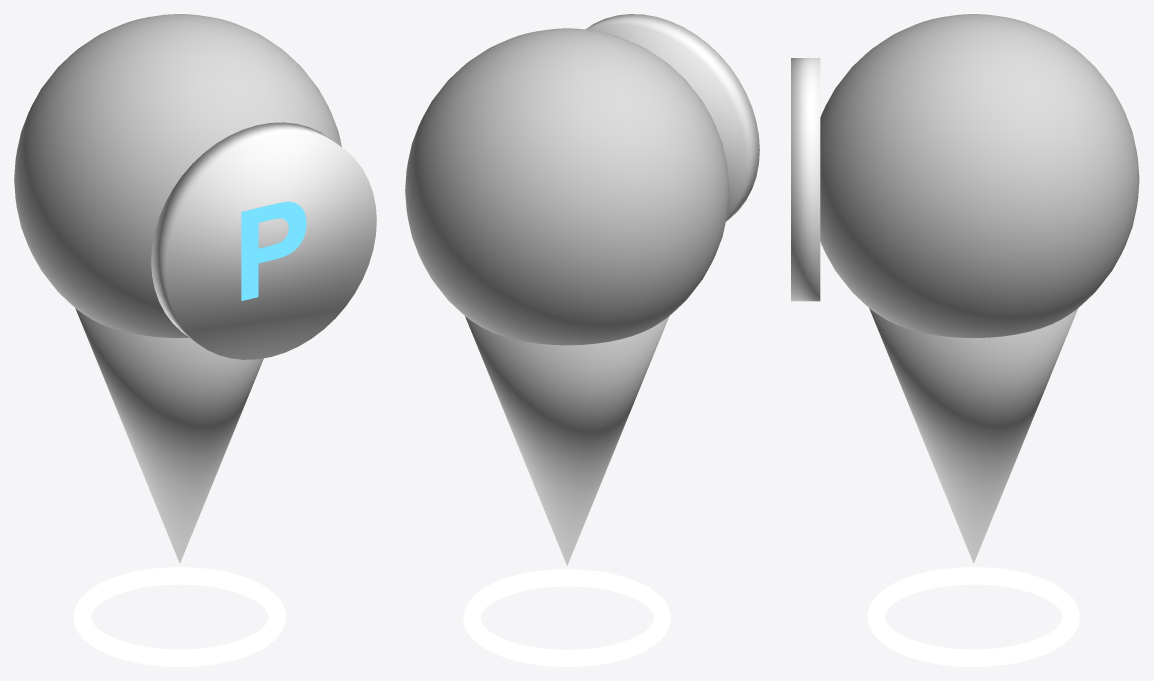
The model's file is pin-a.glb.
3 views of the same model, side by side, from view 1: azimuth 30°, elevation 25°; view 2: azimuth 150°, elevation 25°; view 3: azimuth 270°, elevation 25° (orthographic). The views are drawn at different scales.
Parts seen in each view (by area): view 1: Sphere.016, Cylinder.096, Cone.024, Torus.072, Plane.033; view 2: Sphere.016, Cone.024, Cylinder.096, Torus.072; view 3: Sphere.016, Cone.024, Torus.072, Cylinder.096.
Boxes of the visible parts, box(x1,y1,x2,y2) form: Sphere.016: box(14, 14, 341, 337); Cylinder.096: box(151, 122, 376, 359); Cone.024: box(75, 308, 263, 563); Torus.072: box(73, 567, 285, 666); Plane.033: box(241, 201, 306, 301); Sphere.016: box(405, 28, 729, 345); Cone.024: box(465, 316, 669, 565); Cylinder.096: box(585, 14, 759, 221); Torus.072: box(463, 569, 670, 666); Sphere.016: box(820, 14, 1139, 337); Cone.024: box(869, 308, 1078, 563); Torus.072: box(867, 567, 1079, 666); Cylinder.096: box(791, 58, 820, 301).
Size of the model in its own units: 0.68 by 1.35 by 0.72.
Materials: 4 (1 with a texture image).
